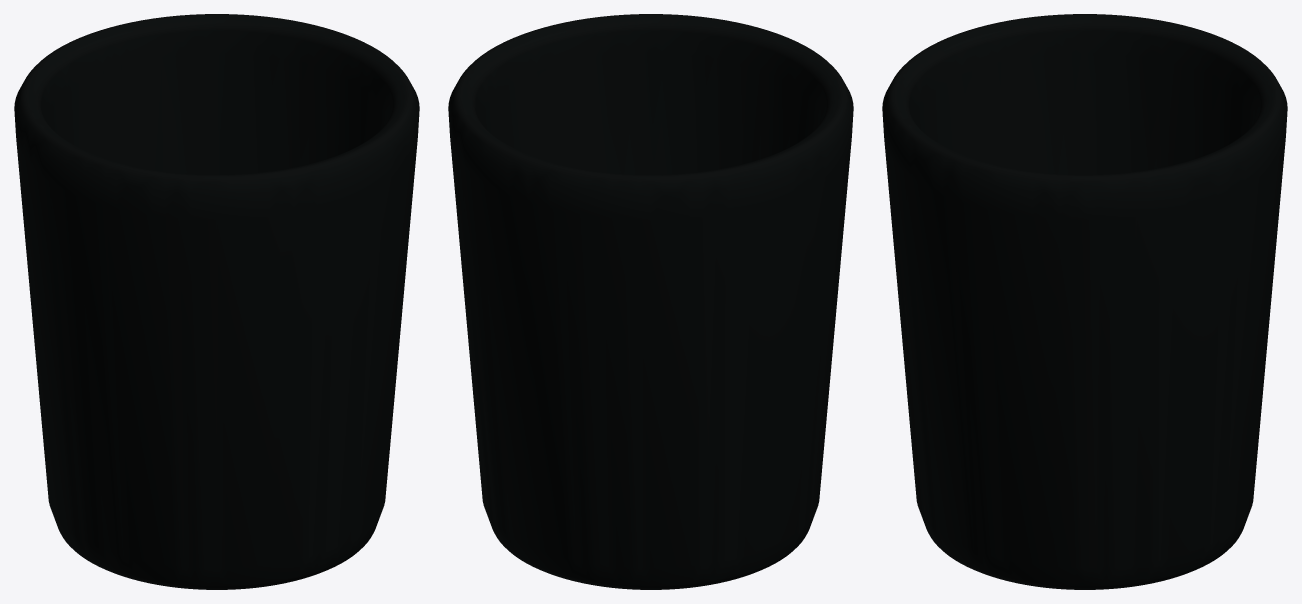
The model's file is SM_Prop02_Vaso_Santiago_Garcia.fbx.
3 views of the same model, side by side, from view 1: azimuth 30°, elevation 25°; view 2: azimuth 150°, elevation 25°; view 3: azimuth 270°, elevation 25° (orthographic).
Parts seen in each view (by area): view 1: Vaso | cuerpo liso; view 2: Vaso | cuerpo liso; view 3: Vaso | cuerpo liso.
Boxes of the visible parts, x1,y1,x2,y2 form: Vaso | cuerpo liso: [14, 14, 419, 589]; Vaso | cuerpo liso: [448, 14, 853, 589]; Vaso | cuerpo liso: [882, 14, 1287, 589].
Size of the model in its own units: 125 by 149 by 125.
2 materials, 2 textured.
